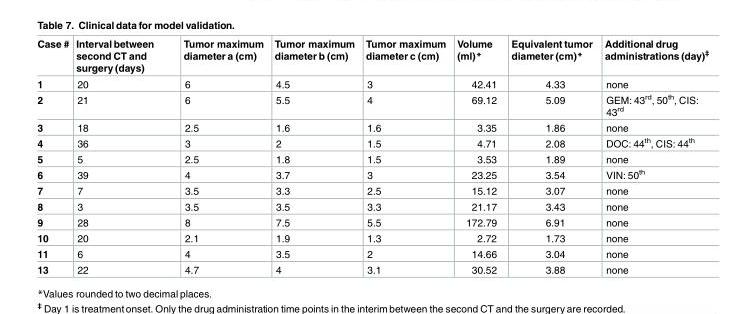table: (36, 37, 708, 275)
table column: (597, 37, 708, 275), (167, 37, 268, 275), (71, 37, 167, 275), (503, 37, 597, 275), (268, 37, 359, 275), (359, 37, 450, 275), (450, 37, 503, 275), (36, 37, 71, 275)
table column header: (36, 37, 708, 75)
table row: (36, 37, 708, 75), (36, 90, 708, 119), (36, 165, 708, 182), (36, 134, 708, 150), (36, 182, 708, 198), (36, 213, 708, 229), (36, 229, 708, 245), (36, 245, 708, 261), (36, 75, 708, 90), (36, 119, 708, 134), (36, 150, 708, 165), (36, 198, 708, 213), (36, 261, 708, 275)
